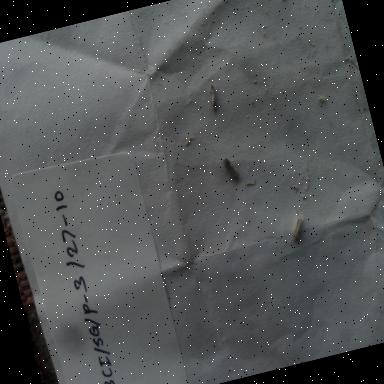pbw: (216, 148, 244, 186), (284, 210, 311, 244), (204, 82, 224, 111)
